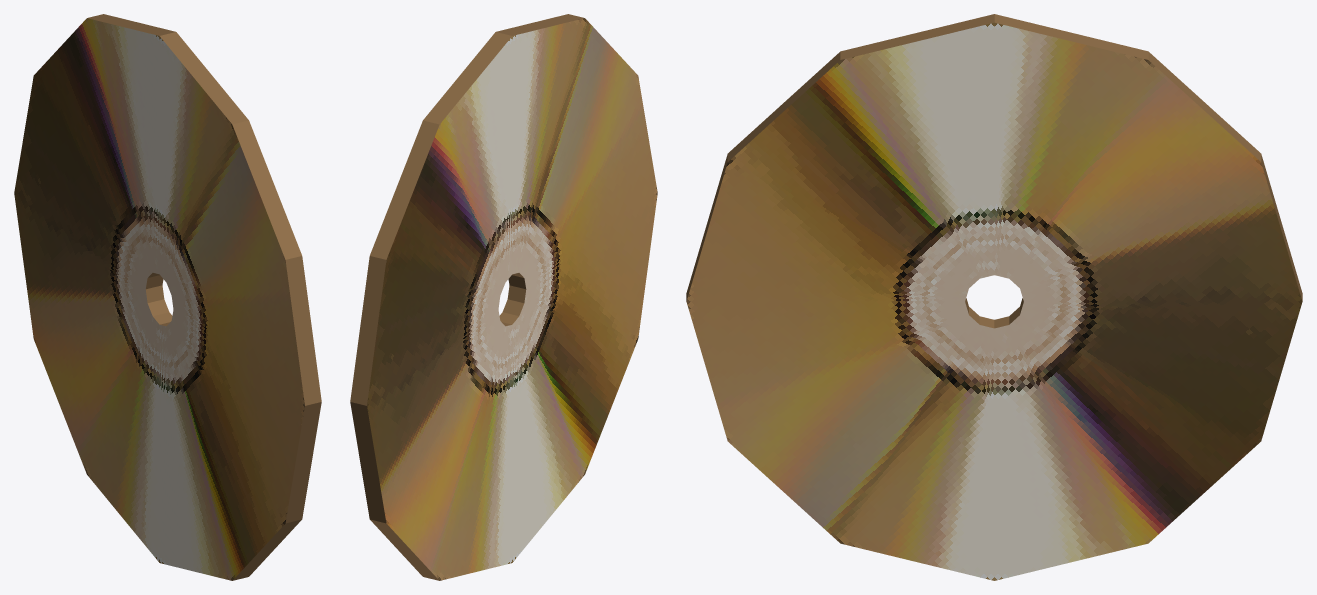
3 renders of one model, left to right at view 1: azimuth 30°, elevation 25°; view 2: azimuth 150°, elevation 25°; view 3: azimuth 270°, elevation 25°, orthographic. The views are drawn at different scales.
Parts seen in each view (by area): view 1: Cylinder.001; view 2: Cylinder.001; view 3: Cylinder.001.
Boxes of the visible parts, <box> form: Cylinder.001: <box>14,14,321,580</box>; Cylinder.001: <box>350,14,657,580</box>; Cylinder.001: <box>686,14,1302,580</box>.
Size of the model in its own units: 0.025 by 0.75 by 0.75.
1 material, 1 textured.
